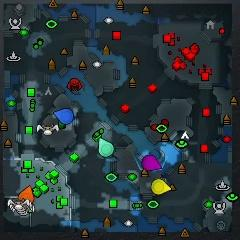p1: (53, 108, 74, 125)
p2: (98, 137, 114, 158)
p3: (143, 155, 161, 171)
p4: (152, 179, 172, 194)
p5: (19, 186, 34, 203)
